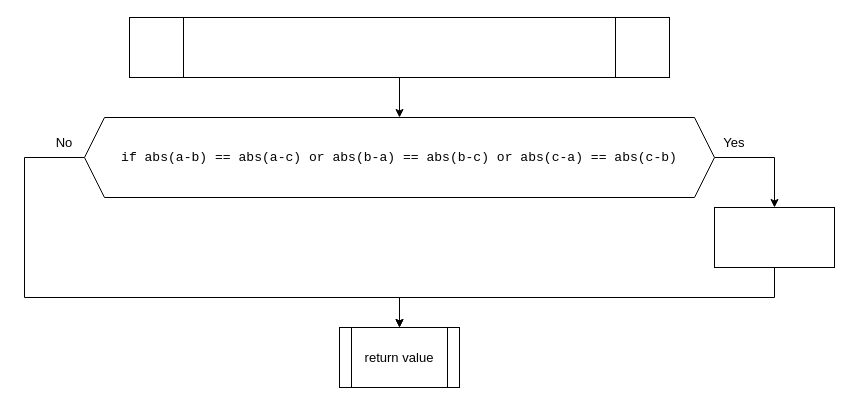
Some shapes in this 852 by 405 pixel diagram are drawn without their labels. Here are the shapes that lost their labels. From the top down, the centre of each, then its label:
At pixel 399 47: "def evenlySpaced (a: int , b: int , c: int , value= False )".
At pixel 774 237: "value = True".
